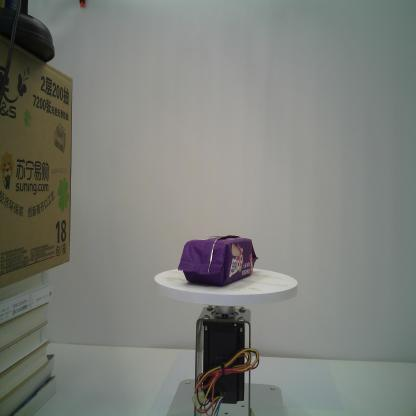Dessert: (176, 232, 262, 290)
